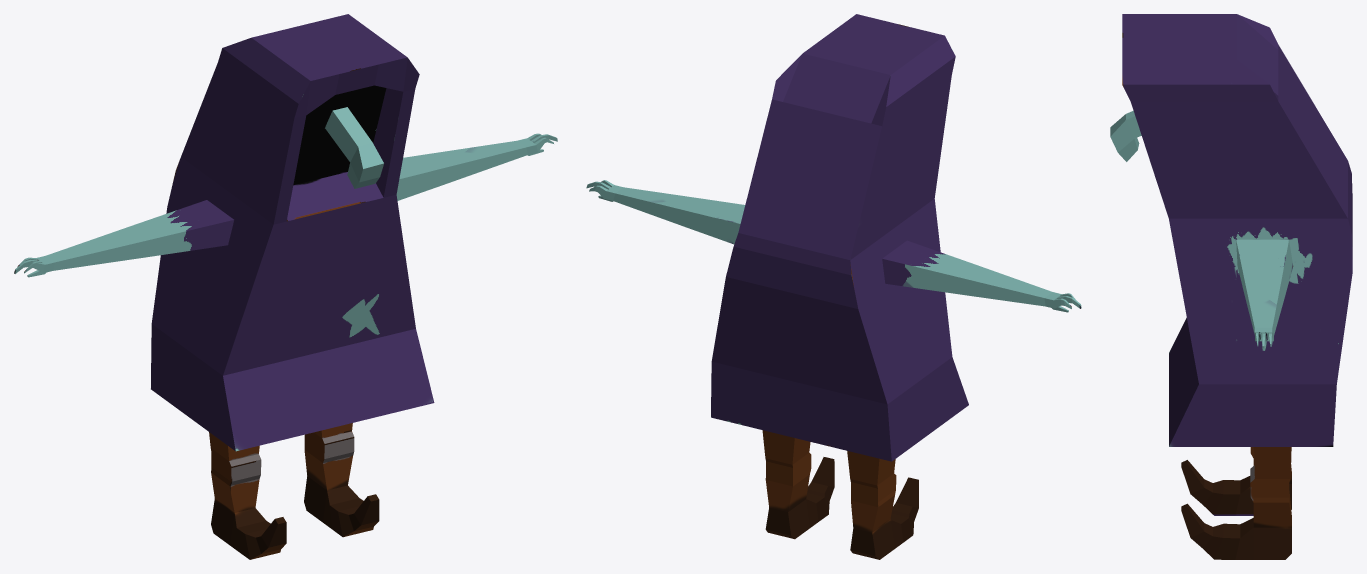
Rendered from witch.fbx.
3 views of the same model, side by side, from view 1: azimuth 30°, elevation 25°; view 2: azimuth 150°, elevation 25°; view 3: azimuth 270°, elevation 25° (orthographic). The views are drawn at different scales.
Parts seen in each view (by area): view 1: Cube, nose; view 2: Cube; view 3: Cube, nose.
Boxes of the visible parts, bbox=[...] form: Cube: bbox=[14, 14, 557, 559]; nose: bbox=[325, 107, 383, 188]; Cube: bbox=[586, 14, 1081, 559]; Cube: bbox=[1122, 14, 1352, 559]; nose: bbox=[1110, 110, 1141, 161].
Size of the model in its own units: 738 by 664 by 295.
2 materials, 2 textured.
